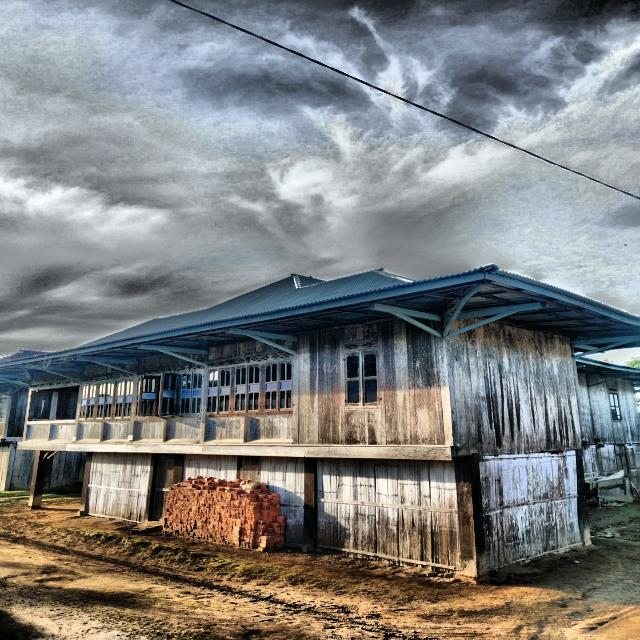column: (453, 456, 487, 577), (302, 458, 317, 551), (29, 450, 50, 506), (77, 452, 92, 515), (172, 453, 184, 487)
door: (150, 459, 174, 522)
ornamen: (247, 414, 293, 442), (204, 416, 245, 443), (165, 418, 201, 442), (132, 420, 164, 442), (102, 421, 131, 442), (75, 422, 102, 442), (48, 423, 75, 442), (25, 424, 49, 441)
roof: (0, 265, 640, 380)
wall: (298, 319, 583, 455), (317, 458, 461, 574), (479, 451, 583, 572), (203, 339, 294, 445), (132, 355, 203, 445), (75, 365, 134, 444), (86, 452, 152, 522), (577, 374, 640, 445), (259, 456, 304, 548), (182, 454, 238, 482)
window: (344, 350, 380, 406), (138, 372, 178, 416), (262, 360, 293, 412), (233, 364, 261, 413), (206, 368, 230, 415), (179, 371, 204, 416), (113, 379, 134, 419), (96, 381, 115, 419), (78, 383, 97, 420), (609, 393, 622, 420)
